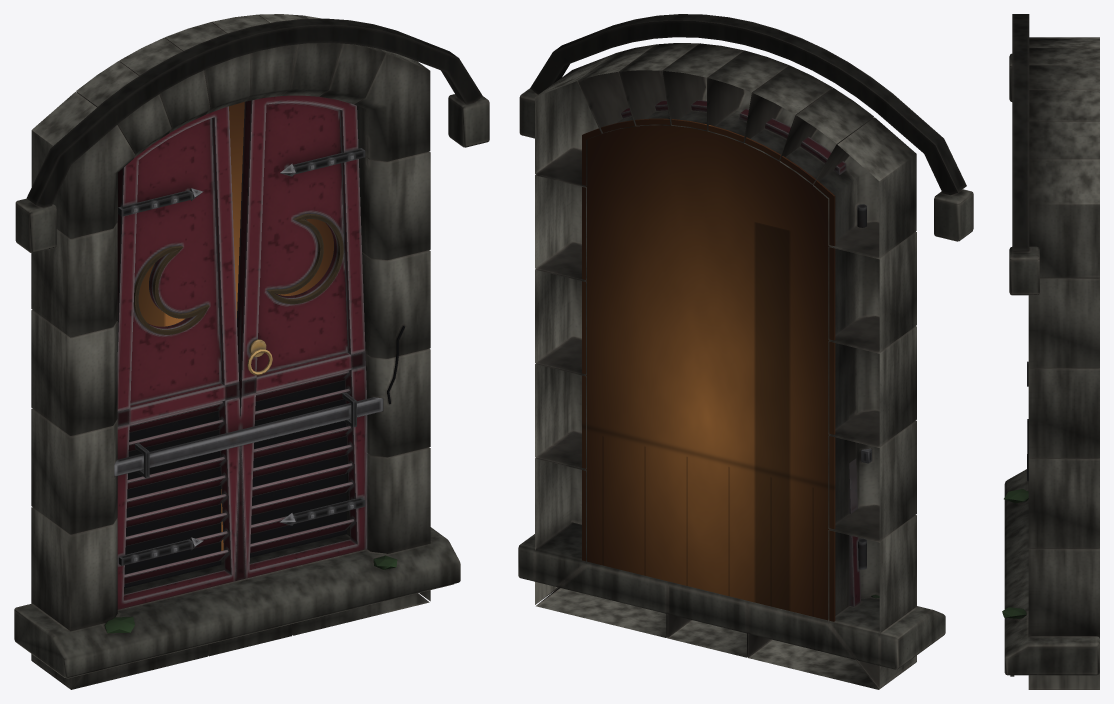
Rendered from ShutteredWindow.fbx.
3 renders of one model, left to right at view 1: azimuth 30°, elevation 25°; view 2: azimuth 150°, elevation 25°; view 3: azimuth 270°, elevation 25°, orthographic. The views are drawn at different scales.
Parts seen in each view (by area): view 1: ShutteredWindow_Main, ShutteredWindow_Room; view 2: ShutteredWindow_Main, ShutteredWindow_Room; view 3: ShutteredWindow_Main.
Boxes of the visible parts, x1,y1,x2,y2 form: ShutteredWindow_Main: (14,14,489,689); ShutteredWindow_Room: (138,101,333,550); ShutteredWindow_Main: (518,14,973,689); ShutteredWindow_Room: (582,118,835,621); ShutteredWindow_Main: (1002,14,1099,689).
Size of the model in its own units: 510 by 656 by 103.
